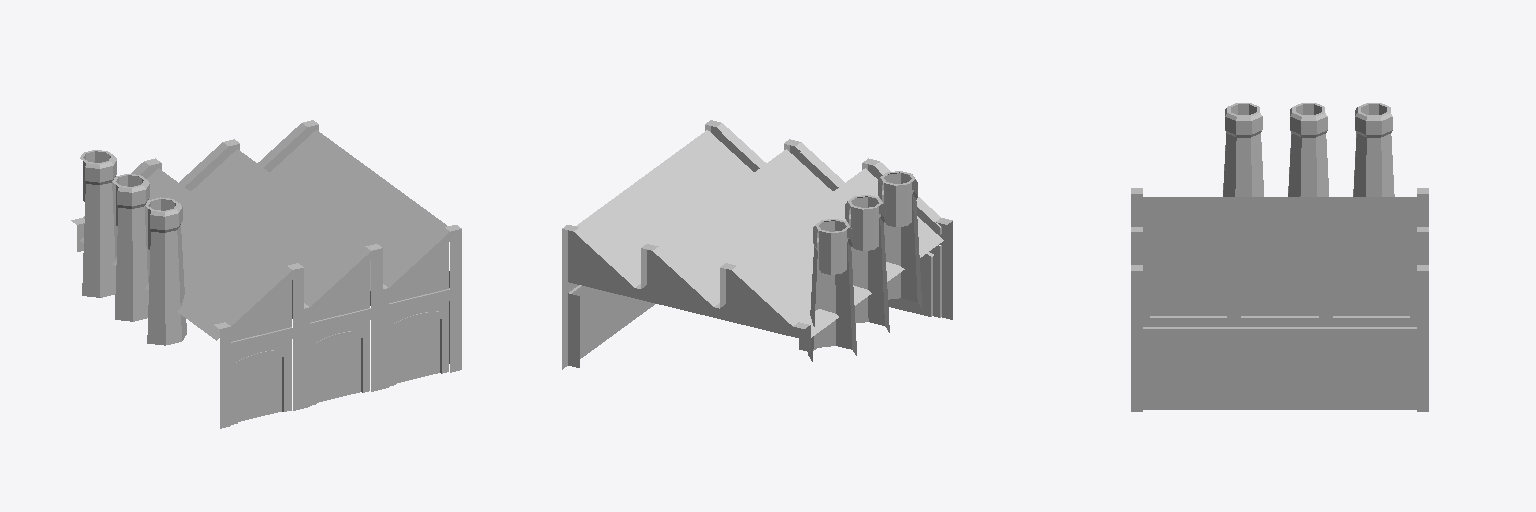
The model's file is tier2.v2.obj.
3 views of the same model, side by side, from view 1: azimuth 30°, elevation 25°; view 2: azimuth 150°, elevation 25°; view 3: azimuth 270°, elevation 25° (orthographic).
Visible parts, largest first — view 1: building, facade, chimney.002, chimney, chimney.001, door1.001, door1, door1.002; view 2: building, facade, chimney, chimney.002, chimney.001, door1.001; view 3: building, window, window.001, window.002, facade, chimney, chimney.001, chimney.002.
Part boxes in pixels (x1,y1,x2,y2): building: (80,130,449,363); facade: (71,120,461,428); chimney.002: (145,197,186,345); chimney: (80,150,117,297); chimney.001: (112,174,149,321); door1.001: (231,339,291,424); door1: (310,320,369,405); door1.002: (389,301,448,386); building: (568,130,943,358); facade: (562,120,952,369); chimney: (808,219,856,361); chimney.002: (878,171,922,309); chimney.001: (845,195,889,332); door1.001: (888,245,939,317); building: (1143,327,1416,409); window: (1143,274,1416,326); window.001: (1143,235,1416,273); window.002: (1143,197,1416,234); facade: (1131,188,1428,411); chimney: (1353,103,1394,196); chimney.001: (1288,103,1328,196); chimney.002: (1223,103,1263,196).
Size of the model in its own units: 15.93 by 10.59 by 15.58.